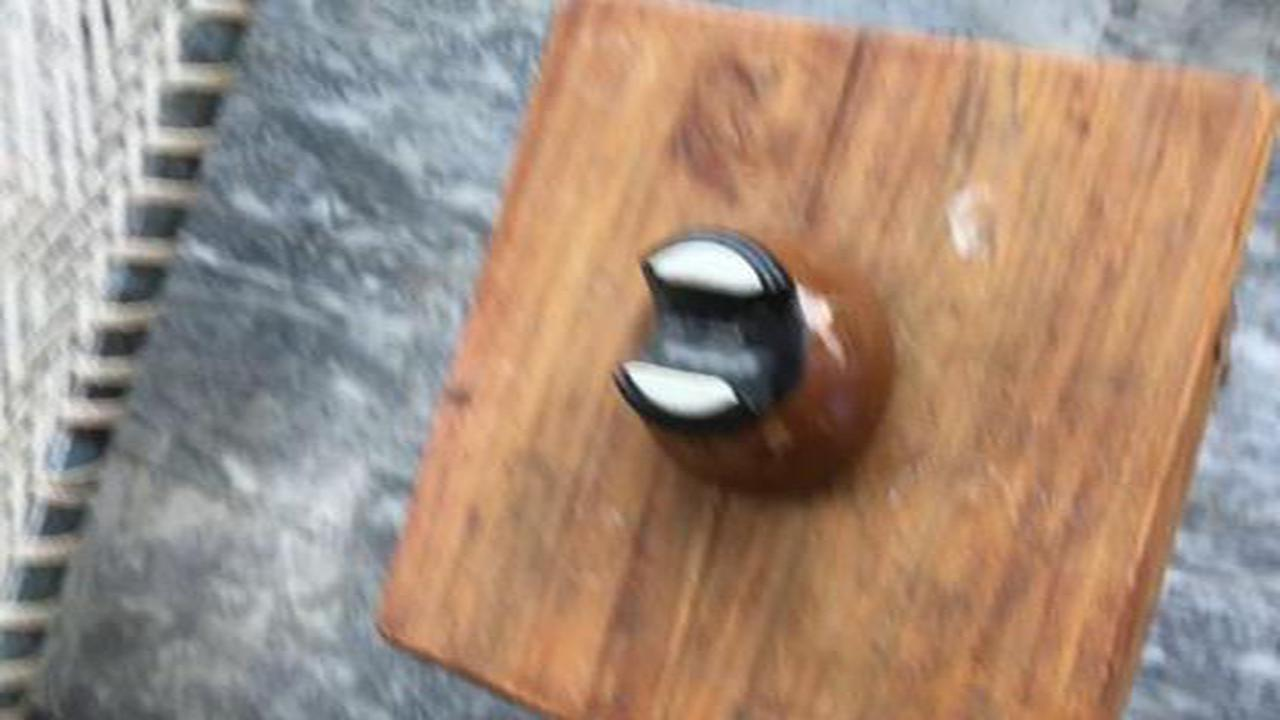insulator_pin: (591, 219, 914, 520)
